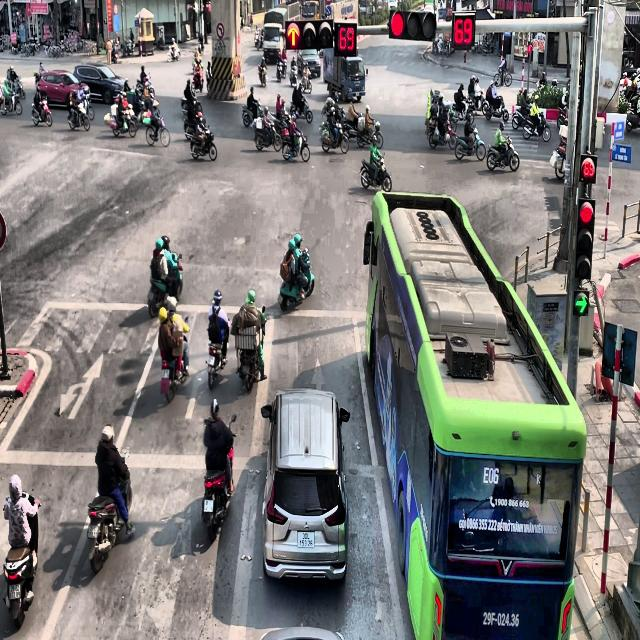BUS: (362, 190, 586, 638)
CAR: (260, 387, 350, 583), (73, 64, 128, 104), (36, 69, 89, 108)
MOTORBIKE: (87, 450, 134, 574), (2, 493, 41, 629), (201, 415, 237, 542), (235, 305, 266, 392), (160, 316, 190, 402), (278, 248, 314, 310), (148, 254, 182, 318), (206, 316, 230, 389), (486, 135, 520, 171), (360, 153, 392, 191), (454, 125, 486, 161), (319, 118, 349, 154), (549, 125, 568, 179), (189, 124, 217, 160), (254, 116, 282, 152), (427, 117, 457, 150), (109, 104, 138, 138), (282, 128, 310, 162), (523, 110, 551, 142), (67, 94, 90, 132), (0, 80, 23, 116), (146, 113, 170, 147), (357, 119, 383, 149), (482, 94, 509, 122), (31, 94, 52, 126), (450, 98, 474, 125), (242, 98, 264, 127), (290, 95, 312, 124), (625, 94, 640, 132), (512, 102, 532, 130), (80, 92, 94, 120), (493, 66, 512, 86), (192, 64, 204, 91), (556, 104, 568, 130), (300, 69, 312, 93), (167, 46, 180, 62), (258, 64, 267, 86), (289, 67, 297, 86), (276, 60, 282, 82)
TRAFFIC_LIGHT: (575, 196, 595, 280), (285, 18, 333, 50), (388, 9, 437, 40), (452, 12, 476, 47), (334, 22, 356, 56), (579, 154, 597, 184)
